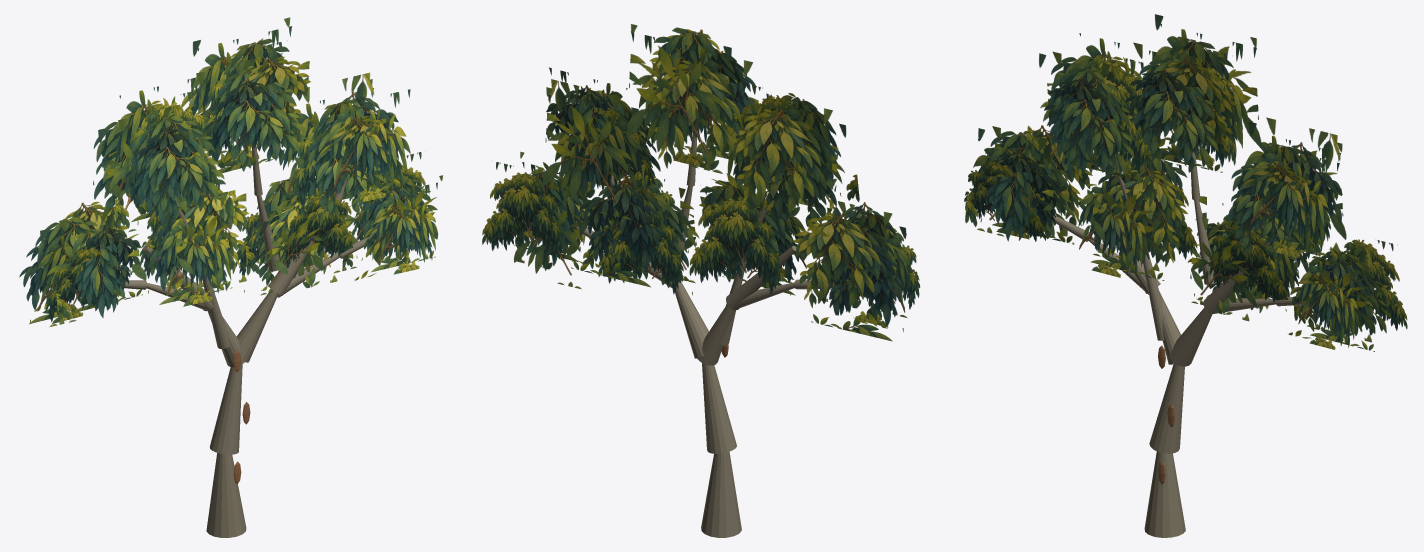
The model's file is TREE_EUCALYPTUS_001_LOD_CLOSE.glb.
3 views of the same model, side by side, from view 1: azimuth 30°, elevation 25°; view 2: azimuth 150°, elevation 25°; view 3: azimuth 330°, elevation 25° (orthographic). The views are drawn at different scales.
Parts seen in each view (by area): view 1: GG_EUC_FRONT_ISLAND_01_CLUSTER_02, GG_EUC_FRONT_ISLAND_02_CLUSTER_01, GG_EUC_FRONT_ISLAND_03_CLUSTER_02, GG_EUC_FRONT_ISLAND_05_CLUSTER_00, GG_EUC_FRONT_ISLAND_03_CLUSTER_00, GG_EUC_FRONT_ISLAND_00_CLUSTER_01, GG_EUC_FRONT_ISLAND_04_CLUSTER_01, GG_EUC_FRONT_ISLAND_06_CLUSTER_02, GG_EUC_V2_BRANCH_00, GG_EUC_BODY_ISLAND_05_CLUSTER_02, GG_EUC_FRONT_ISLAND_02_CLUSTER_00, GG_EUC_V2_BRANCH_01 (+41 smaller); view 2: GG_EUC_REAR_ISLAND_01_CLUSTER_01, GG_EUC_REAR_ISLAND_05_CLUSTER_01, GG_EUC_REAR_ISLAND_00_CLUSTER_02, GG_EUC_REAR_ISLAND_06_CLUSTER_02, GG_EUC_REAR_ISLAND_02_CLUSTER_00, GG_EUC_REAR_ISLAND_04_CLUSTER_02, GG_EUC_REAR_ISLAND_02_CLUSTER_02, GG_EUC_REAR_ISLAND_03_CLUSTER_00, GG_EUC_REAR_ISLAND_00_CLUSTER_00, GG_EUC_REAR_ISLAND_03_CLUSTER_01, GG_EUC_REAR_ISLAND_01_CLUSTER_00, GG_EUC_REAR_ISLAND_06_CLUSTER_00 (+28 smaller); view 3: GG_EUC_FRONT_ISLAND_01_CLUSTER_02, GG_EUC_FRONT_ISLAND_02_CLUSTER_01, GG_EUC_FRONT_ISLAND_03_CLUSTER_02, GG_EUC_FRONT_ISLAND_05_CLUSTER_00, GG_EUC_BODY_ISLAND_05_CLUSTER_02, GG_EUC_FRONT_ISLAND_06_CLUSTER_02, GG_EUC_FRONT_ISLAND_03_CLUSTER_00, GG_EUC_FRONT_ISLAND_04_CLUSTER_01, GG_EUC_FRONT_ISLAND_00_CLUSTER_01, GG_EUC_FRONT_ISLAND_02_CLUSTER_02, GG_EUC_V2_BRANCH_00, GG_EUC_BODY_ISLAND_01_CLUSTER_02 (+38 smaller).
Boxes of the visible parts, left/top/right/bottom form: GG_EUC_FRONT_ISLAND_01_CLUSTER_02: left=137, top=113, right=224, bottom=225; GG_EUC_FRONT_ISLAND_02_CLUSTER_01: left=215, top=65, right=305, bottom=179; GG_EUC_FRONT_ISLAND_03_CLUSTER_02: left=327, top=89, right=410, bottom=204; GG_EUC_FRONT_ISLAND_05_CLUSTER_00: left=161, top=207, right=233, bottom=306; GG_EUC_FRONT_ISLAND_03_CLUSTER_00: left=305, top=132, right=387, bottom=225; GG_EUC_FRONT_ISLAND_00_CLUSTER_01: left=56, top=229, right=140, bottom=320; GG_EUC_FRONT_ISLAND_04_CLUSTER_01: left=374, top=182, right=438, bottom=274; GG_EUC_FRONT_ISLAND_06_CLUSTER_02: left=282, top=185, right=354, bottom=268; GG_EUC_V2_BRANCH_00: left=206, top=453, right=246, bottom=537; GG_EUC_BODY_ISLAND_05_CLUSTER_02: left=163, top=187, right=248, bottom=291; GG_EUC_FRONT_ISLAND_02_CLUSTER_00: left=204, top=78, right=285, bottom=175; GG_EUC_V2_BRANCH_01: left=210, top=364, right=242, bottom=454; GG_EUC_REAR_ISLAND_01_CLUSTER_01: left=732, top=109, right=829, bottom=236; GG_EUC_REAR_ISLAND_05_CLUSTER_01: left=689, top=185, right=781, bottom=294; GG_EUC_REAR_ISLAND_00_CLUSTER_02: left=793, top=212, right=888, bottom=328; GG_EUC_REAR_ISLAND_06_CLUSTER_02: left=571, top=180, right=663, bottom=287; GG_EUC_REAR_ISLAND_02_CLUSTER_00: left=649, top=60, right=749, bottom=190; GG_EUC_REAR_ISLAND_04_CLUSTER_02: left=482, top=162, right=562, bottom=260; GG_EUC_REAR_ISLAND_02_CLUSTER_02: left=626, top=24, right=731, bottom=173; GG_EUC_REAR_ISLAND_03_CLUSTER_00: left=548, top=95, right=643, bottom=207; GG_EUC_REAR_ISLAND_00_CLUSTER_00: left=811, top=234, right=905, bottom=341; GG_EUC_REAR_ISLAND_03_CLUSTER_01: left=542, top=87, right=638, bottom=219; GG_EUC_REAR_ISLAND_01_CLUSTER_00: left=746, top=121, right=836, bottom=226; GG_EUC_REAR_ISLAND_06_CLUSTER_00: left=598, top=194, right=683, bottom=294; GG_EUC_FRONT_ISLAND_01_CLUSTER_02: left=1044, top=67, right=1134, bottom=179; GG_EUC_FRONT_ISLAND_02_CLUSTER_01: left=1124, top=58, right=1218, bottom=172; GG_EUC_FRONT_ISLAND_03_CLUSTER_02: left=1250, top=142, right=1339, bottom=258; GG_EUC_FRONT_ISLAND_05_CLUSTER_00: left=1078, top=177, right=1155, bottom=277; GG_EUC_BODY_ISLAND_05_CLUSTER_02: left=1097, top=166, right=1187, bottom=266; GG_EUC_FRONT_ISLAND_06_CLUSTER_02: left=1208, top=225, right=1288, bottom=306; GG_EUC_FRONT_ISLAND_03_CLUSTER_00: left=1218, top=164, right=1303, bottom=264; GG_EUC_FRONT_ISLAND_04_CLUSTER_01: left=1298, top=258, right=1366, bottom=349; GG_EUC_FRONT_ISLAND_00_CLUSTER_01: left=965, top=146, right=1053, bottom=241; GG_EUC_FRONT_ISLAND_02_CLUSTER_02: left=1147, top=57, right=1237, bottom=152; GG_EUC_V2_BRANCH_00: left=1144, top=451, right=1185, bottom=537; GG_EUC_BODY_ISLAND_01_CLUSTER_02: left=1074, top=57, right=1151, bottom=173.
Size of the model in its own units: 6.46 by 7.16 by 0.8615.
3 materials, 1 textured.
